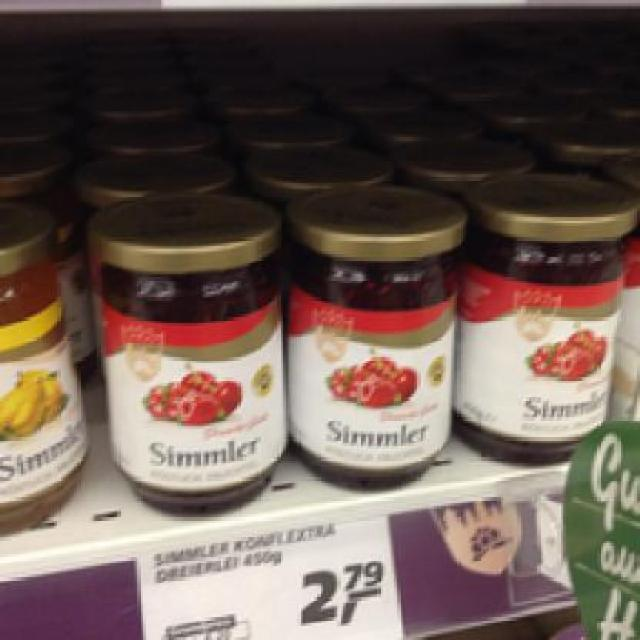Jam: (80, 188, 289, 514), (282, 186, 468, 492), (452, 170, 638, 467)
